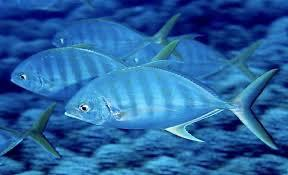Carangidae -Jacks-: (62, 53, 279, 152)
